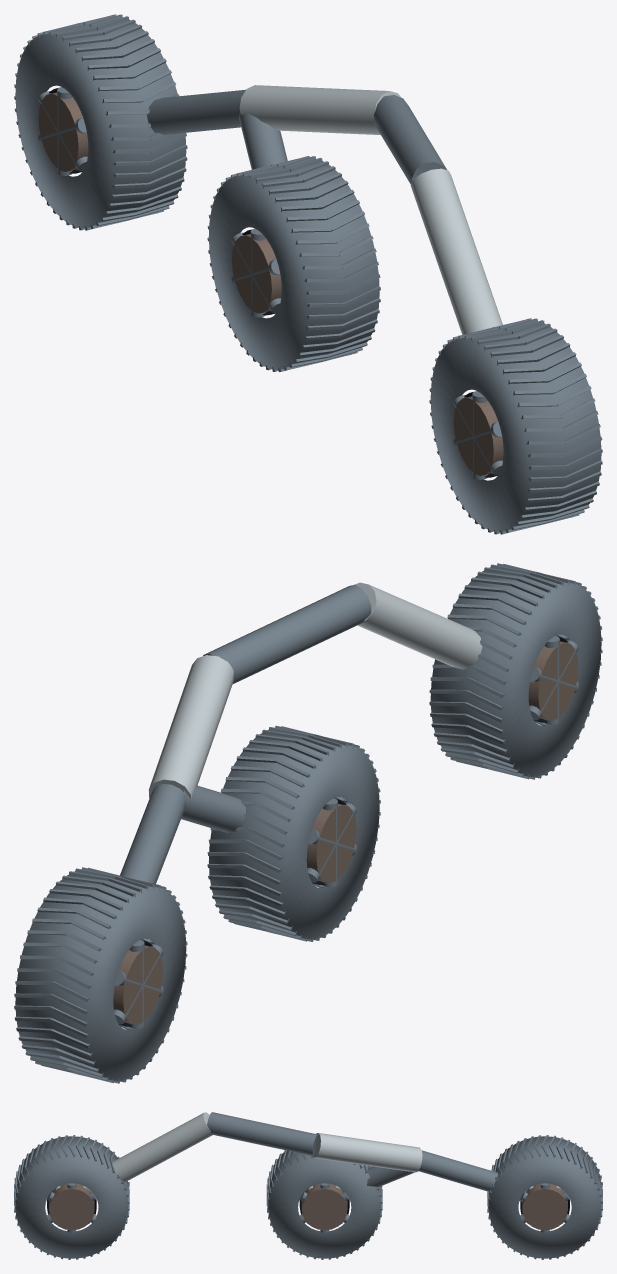
The model's file is perseverance_mobility.rocker_left.glb.
3 views of the same model, one above another, from view 1: azimuth 30°, elevation 25°; view 2: azimuth 150°, elevation 25°; view 3: azimuth 270°, elevation 25° (orthographic). The views are drawn at different scales.
Visible parts, largest first — view 1: perseverance_mobility.rocker_left.bogie.axle_middle.wheel_mi (×2), perseverance_mobility.rocker_left.steer_front.wheel_front.ri (×2), perseverance_mobility.rocker_left.bogie.steer_rear.wheel_rea (×2), perseverance_mobility.rocker_left.mesh_Satin_aluminum, perseverance_mobility.rocker_left.bogie.mesh_Machined_steel, perseverance_mobility.rocker_left.mesh_Machined_steel; view 2: perseverance_mobility.rocker_left.bogie.steer_rear.wheel_rea (×2), perseverance_mobility.rocker_left.bogie.axle_middle.wheel_mi (×2), perseverance_mobility.rocker_left.steer_front.wheel_front.ri (×2), perseverance_mobility.rocker_left.mesh_Satin_aluminum, perseverance_mobility.rocker_left.mesh_Machined_steel, perseverance_mobility.rocker_left.bogie.mesh_Machined_steel; view 3: perseverance_mobility.rocker_left.bogie.steer_rear.wheel_rea (×2), perseverance_mobility.rocker_left.steer_front.wheel_front.ri (×2), perseverance_mobility.rocker_left.bogie.axle_middle.wheel_mi (×2), perseverance_mobility.rocker_left.mesh_Satin_aluminum, perseverance_mobility.rocker_left.mesh_Machined_steel, perseverance_mobility.rocker_left.bogie.mesh_Machined_steel.
Boxes of the visible parts, <box> form: perseverance_mobility.rocker_left.bogie.axle_middle.wheel_mi (×2): <box>207,156,380,371</box>; perseverance_mobility.rocker_left.steer_front.wheel_front.ri (×2): <box>429,318,602,534</box>; perseverance_mobility.rocker_left.bogie.steer_rear.wheel_rea (×2): <box>14,14,187,230</box>; perseverance_mobility.rocker_left.mesh_Satin_aluminum: <box>239,85,502,334</box>; perseverance_mobility.rocker_left.bogie.mesh_Machined_steel: <box>147,89,287,169</box>; perseverance_mobility.rocker_left.mesh_Machined_steel: <box>374,95,446,184</box>; perseverance_mobility.rocker_left.bogie.steer_rear.wheel_rea (×2): <box>14,867,187,1083</box>; perseverance_mobility.rocker_left.bogie.axle_middle.wheel_mi (×2): <box>207,725,380,941</box>; perseverance_mobility.rocker_left.steer_front.wheel_front.ri (×2): <box>429,563,602,779</box>; perseverance_mobility.rocker_left.mesh_Satin_aluminum: <box>148,582,482,799</box>; perseverance_mobility.rocker_left.mesh_Machined_steel: <box>203,585,371,683</box>; perseverance_mobility.rocker_left.bogie.mesh_Machined_steel: <box>120,784,245,883</box>; perseverance_mobility.rocker_left.bogie.steer_rear.wheel_rea (×2): <box>487,1135,602,1259</box>; perseverance_mobility.rocker_left.steer_front.wheel_front.ri (×2): <box>14,1135,129,1259</box>; perseverance_mobility.rocker_left.bogie.axle_middle.wheel_mi (×2): <box>266,1150,382,1259</box>; perseverance_mobility.rocker_left.mesh_Satin_aluminum: <box>87,1112,422,1191</box>; perseverance_mobility.rocker_left.mesh_Machined_steel: <box>207,1112,317,1156</box>; perseverance_mobility.rocker_left.bogie.mesh_Machined_steel: <box>340,1150,527,1201</box>.
Bounding box in the file's own units: 0.4561 × 0.7506 × 2.73.
